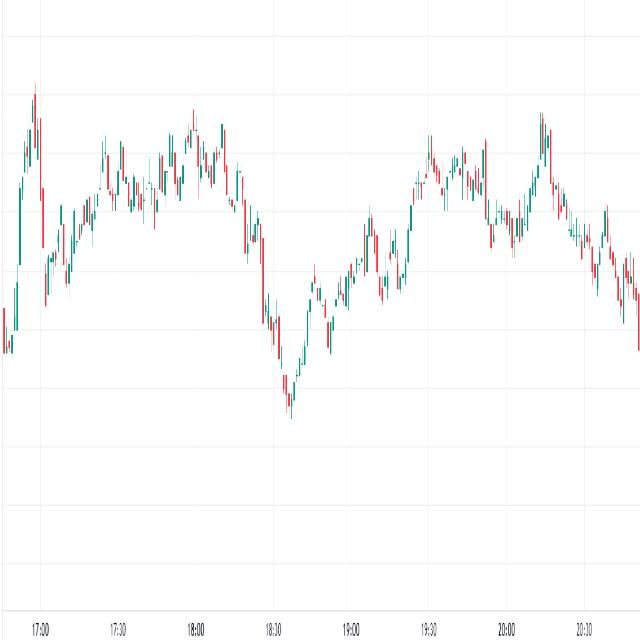Double-Bottom: (372, 224, 414, 307)
Inverse-Head-Shoulders: (258, 262, 340, 433)
